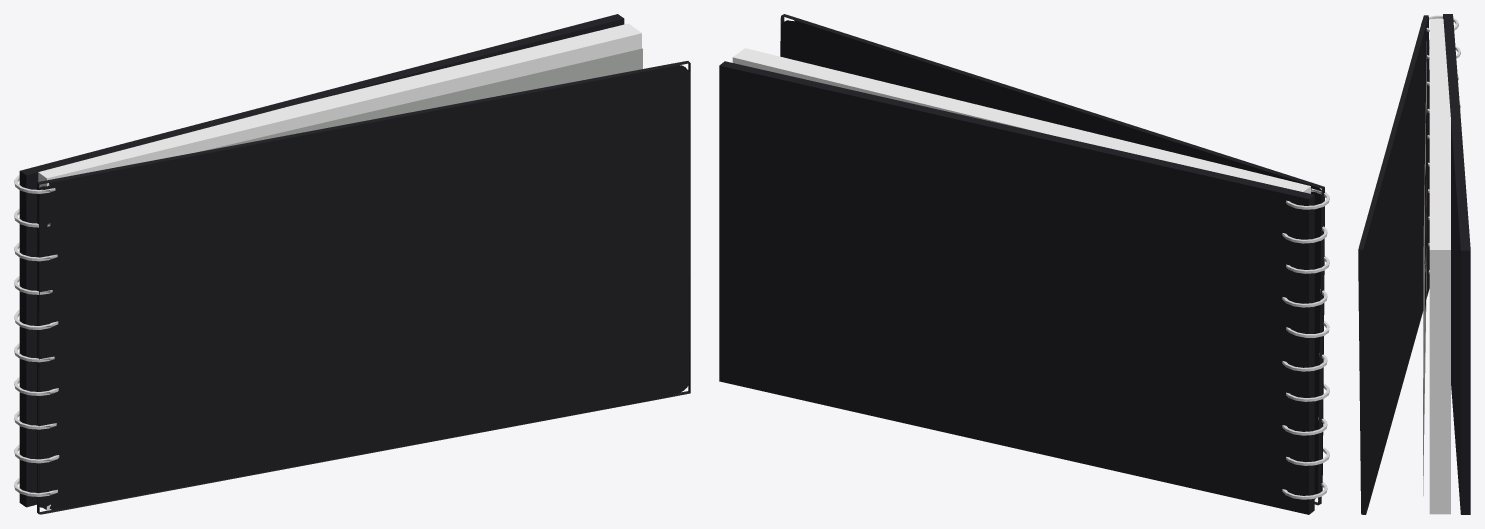
The model's file is finalmodel.gltf.
The picture shows the model from 3 angles, left to right: view 1: azimuth 30°, elevation 25°; view 2: azimuth 150°, elevation 25°; view 3: azimuth 270°, elevation 25°; orthographic projection. The views are drawn at different scales.
Parts seen in each view (by area): view 1: cover_front, paper, cover_back, Frame 59, notebook; view 2: cover_back, cover_front, paper, notebook; view 3: cover_front, paper, cover_back, Frame 59, notebook.
Boxes of the visible parts, left/top/right/bottom form: cover_front: left=37, top=61, right=690, bottom=514; paper: left=38, top=23, right=641, bottom=510; cover_back: left=19, top=14, right=624, bottom=507; Frame 59: left=199, top=48, right=642, bottom=151; notebook: left=14, top=178, right=59, bottom=496; cover_back: left=719, top=61, right=1314, bottom=514; cover_front: left=780, top=14, right=1324, bottom=505; paper: left=732, top=48, right=1310, bottom=193; notebook: left=1282, top=190, right=1329, bottom=499; cover_front: left=1358, top=15, right=1429, bottom=514; paper: left=1429, top=19, right=1450, bottom=514; cover_back: left=1443, top=14, right=1470, bottom=514; Frame 59: left=1423, top=41, right=1426, bottom=495; notebook: left=1426, top=16, right=1460, bottom=273.
Bounding box in the file's own units: 2.81 × 1.45 × 0.5519.
4 materials, 1 textured.
